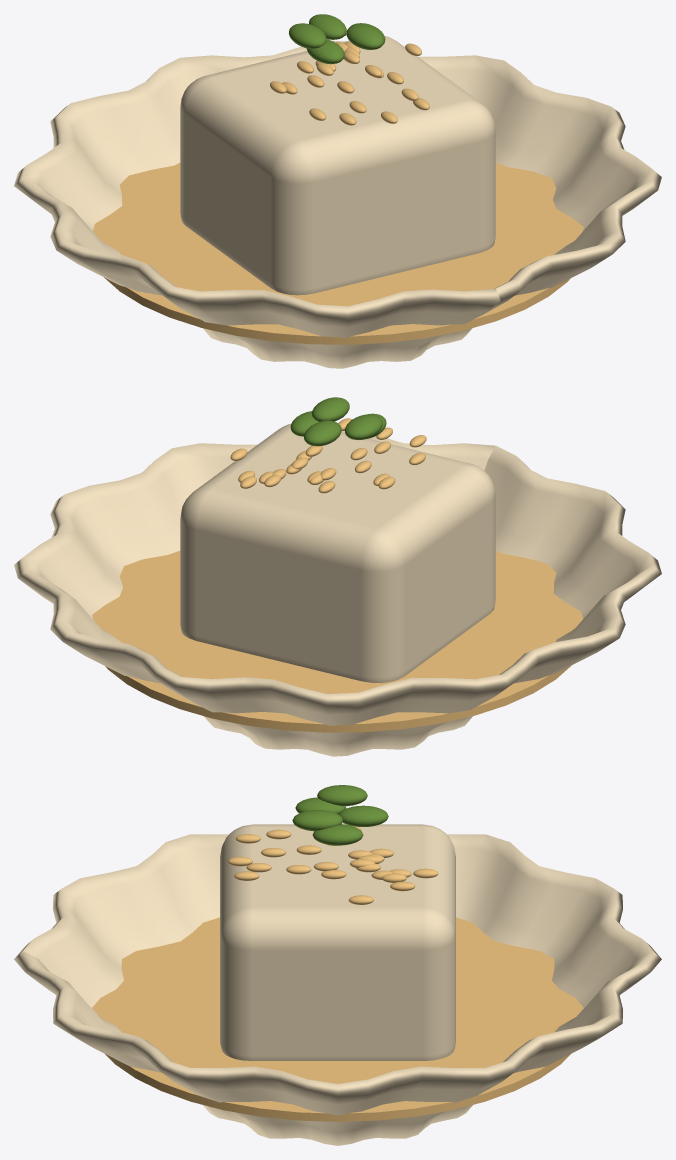
Rendered from 40-sesame-tofu.glb.
3 renders of one model, top to bottom at view 1: azimuth 30°, elevation 25°; view 2: azimuth 150°, elevation 25°; view 3: azimuth 270°, elevation 25°, orthographic.
Parts seen in each view (by area): view 1: 연두부 참깨소스; view 2: 연두부 참깨소스; view 3: 연두부 참깨소스.
Part boxes in pixels (<box>): 연두부 참깨소스: <box>14,14,661,368</box>; 연두부 참깨소스: <box>14,397,661,756</box>; 연두부 참깨소스: <box>14,785,661,1145</box>.
Size of the model in its own units: 1.79 by 0.861 by 1.79.
